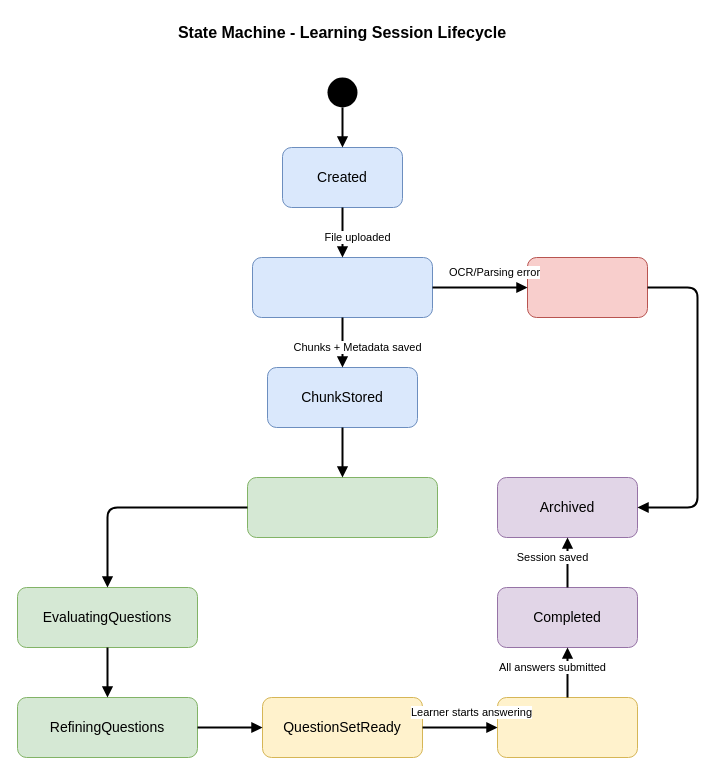
Some shapes in this 724 by 775 pixel diagram are drawn without their labels. Here are the shapes that lost their labels. From the top down, the box of each, then its label:
(252, 256, 432, 318): DocumentProcessing
(526, 256, 648, 318): Failed
(246, 476, 438, 538): GeneratingQuestions
(496, 696, 638, 758): Practicing
